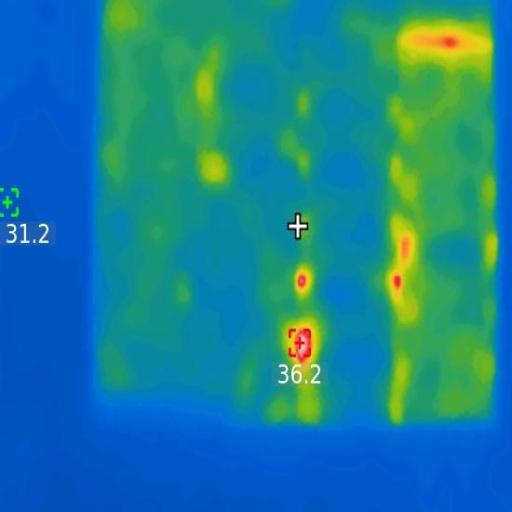hotspot: (288, 335, 314, 362), (438, 34, 462, 52), (391, 274, 404, 298), (296, 271, 310, 293)
